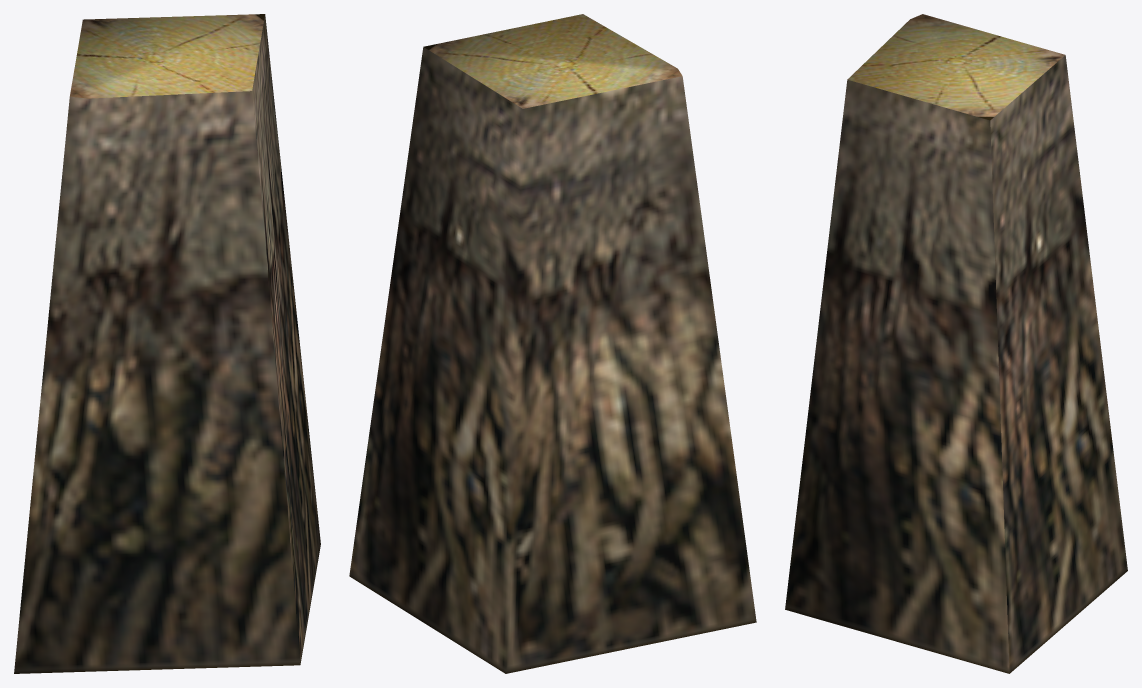
The model's file is fracturePiece0_lod2.fbx.
The picture shows the model from 3 angles, left to right: view 1: azimuth 30°, elevation 25°; view 2: azimuth 150°, elevation 25°; view 3: azimuth 270°, elevation 25°; orthographic projection. The views are drawn at different scales.
Visible parts, largest first — view 1: fracturePiece0_lod2; view 2: fracturePiece0_lod2; view 3: fracturePiece0_lod2.
Boxes of the visible parts, box(x1,y1,x2,y2) form: fracturePiece0_lod2: box(14, 14, 320, 673); fracturePiece0_lod2: box(349, 14, 756, 673); fracturePiece0_lod2: box(785, 14, 1127, 673).
Bounding box in the file's own units: 175 × 255 × 151.
